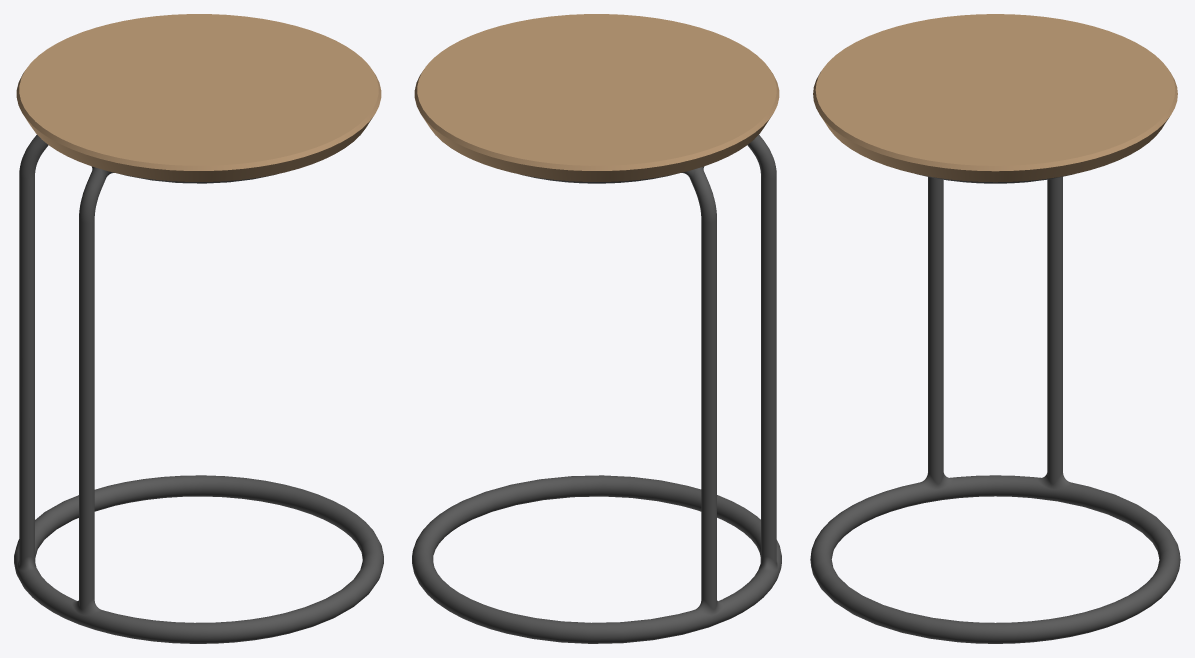
File: 481_サイドテーブル.glb
The picture shows the model from 3 angles, left to right: view 1: azimuth 30°, elevation 25°; view 2: azimuth 150°, elevation 25°; view 3: azimuth 270°, elevation 25°; orthographic projection.
Visible parts, largest first — view 1: Body; view 2: Body; view 3: Body.
Boxes of the visible parts, x1=… form: Body: x1=14, y1=14, x2=383, y2=643; Body: x1=412, y1=14, x2=781, y2=643; Body: x1=810, y1=14, x2=1180, y2=643.
Size of the model in its own units: 0.35 by 0.5 by 0.35.
